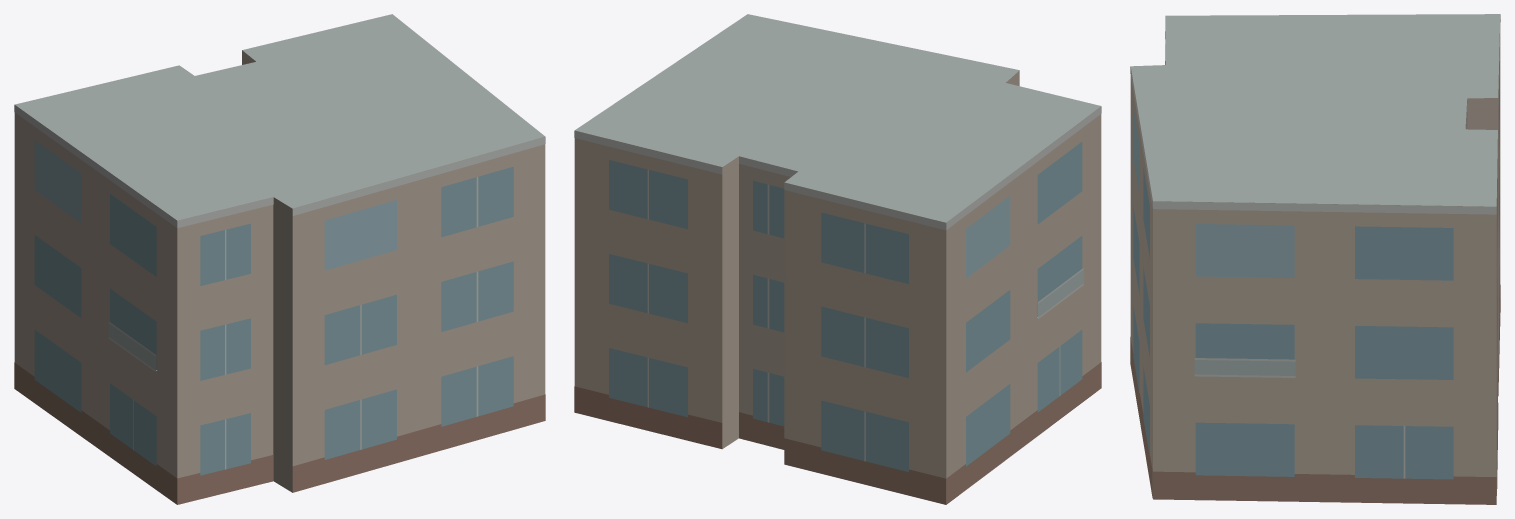
File: survey-upis-32657604.glb
The picture shows the model from 3 angles, left to right: view 1: azimuth 30°, elevation 25°; view 2: azimuth 150°, elevation 25°; view 3: azimuth 270°, elevation 25°; orthographic projection. The views are drawn at different scales.
Parts seen in each view (by area): view 1: survey-upis-32657604.tmp; view 2: survey-upis-32657604.tmp; view 3: survey-upis-32657604.tmp.
Part boxes in pixels (bbox=[...]): survey-upis-32657604.tmp: bbox=[14, 14, 545, 504]; survey-upis-32657604.tmp: bbox=[574, 14, 1101, 504]; survey-upis-32657604.tmp: bbox=[1130, 14, 1500, 504].
Bounding box in the file's own units: 12.69 × 9.15 × 10.29.
